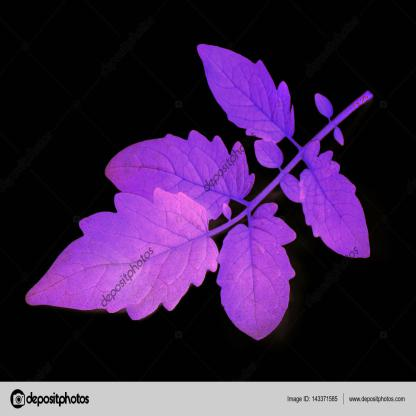tomato leaf: (25, 190, 217, 321), (103, 124, 257, 230), (189, 30, 302, 151), (212, 199, 298, 348), (296, 146, 379, 267)
